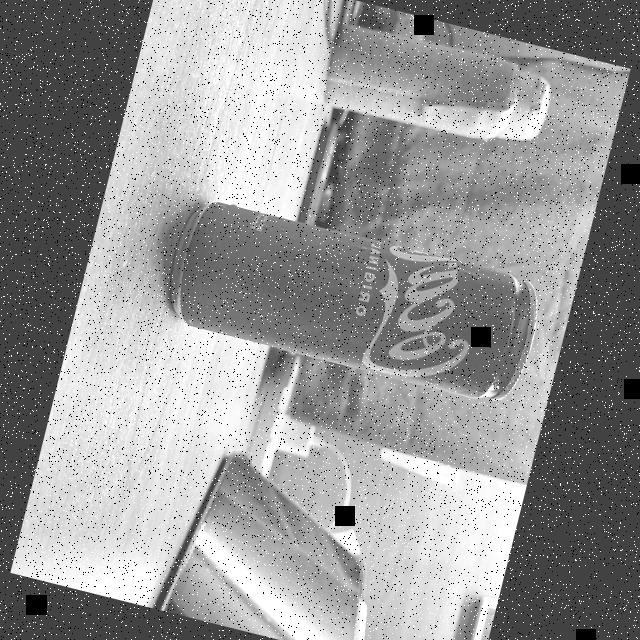can: (156, 185, 552, 414)
